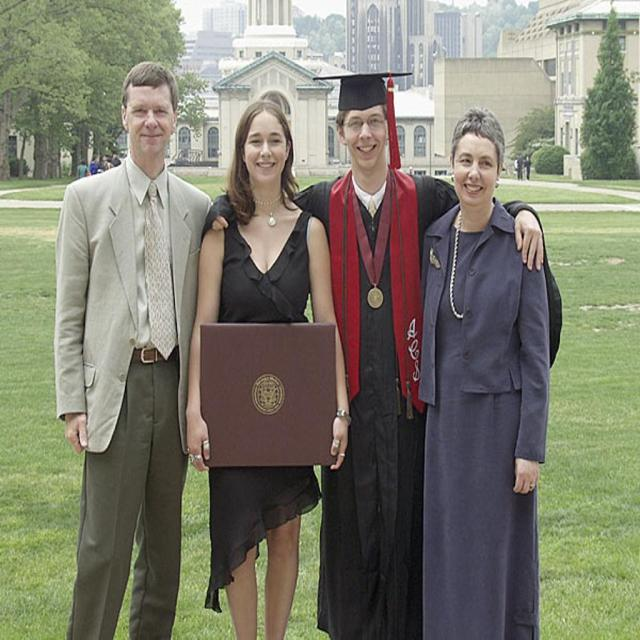Face: (443, 104, 517, 214), (219, 104, 301, 193), (113, 73, 182, 175), (332, 78, 395, 176)
